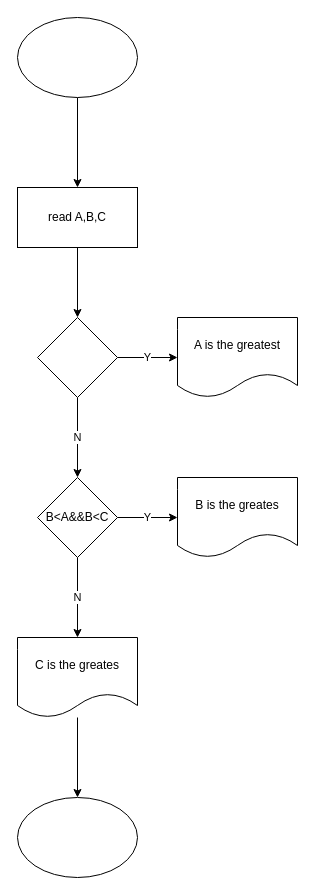
Image size: 315x895. Some labels were removed from this diagram. The centre of each missing label's shape, as x and y in pixels:
"A<B&&A<C" goes at [77,357].
"END" goes at [77,837].
"START" goes at [77,57].
